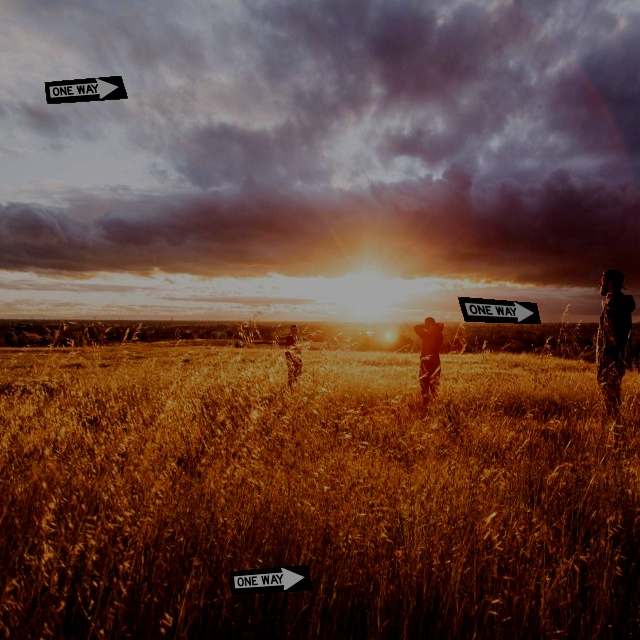ONE_WAY_ right: (229, 564, 313, 595), (44, 75, 128, 104), (457, 296, 541, 324)
